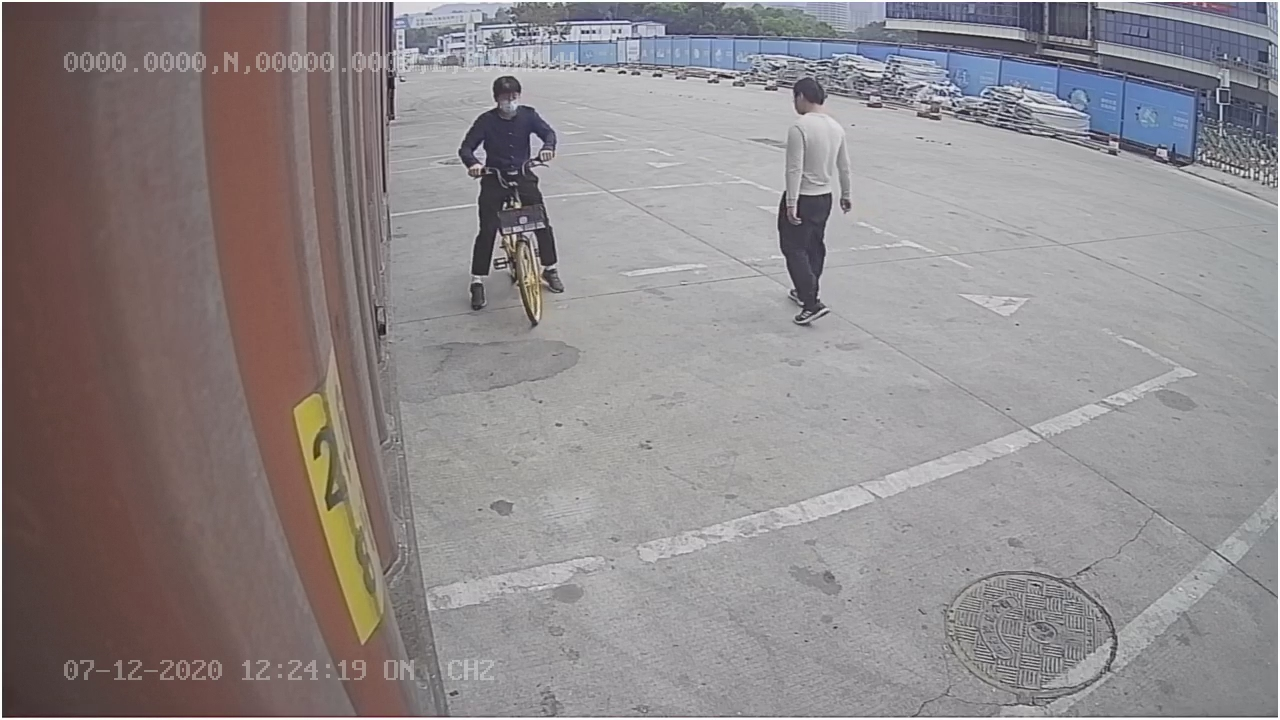person: (770, 76, 859, 328)
